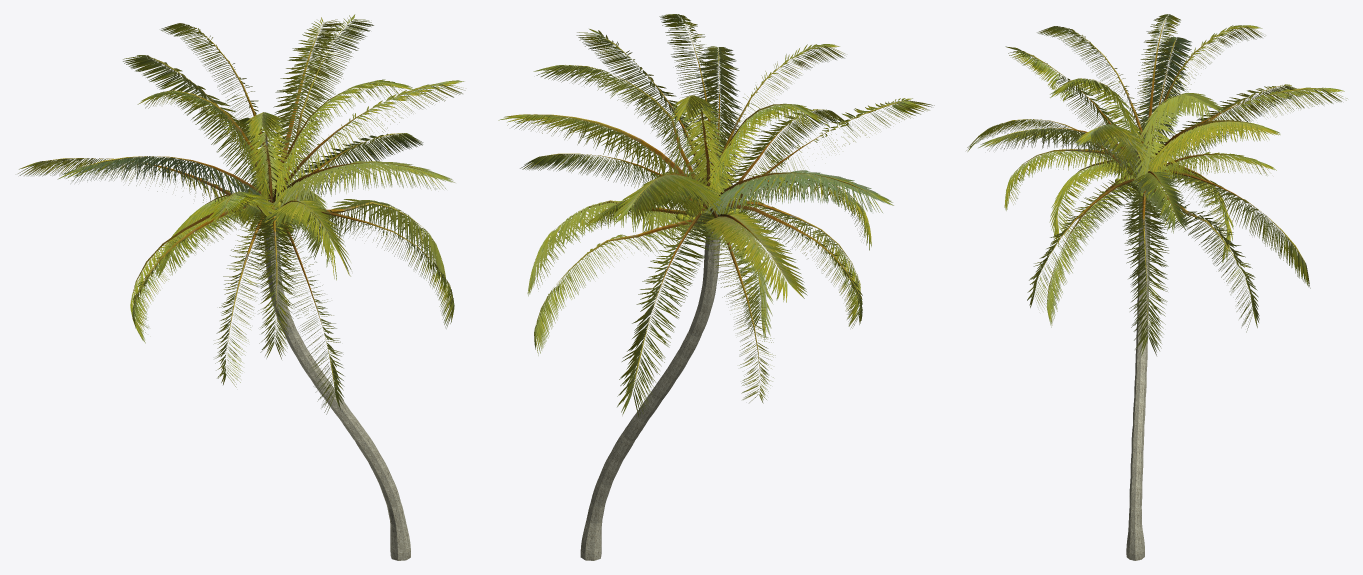
File: coconutTreeBended.obj
3 renders of one model, left to right at view 1: azimuth 30°, elevation 25°; view 2: azimuth 150°, elevation 25°; view 3: azimuth 270°, elevation 25°, orthographic. The views are drawn at different scales.
Parts seen in each view (by area): view 1: Leaves; view 2: Leaves; view 3: Leaves.
Boxes of the visible parts, left/top/right/bottom form: Leaves: left=18, top=14, right=465, bottom=560; Leaves: left=498, top=14, right=934, bottom=560; Leaves: left=966, top=14, right=1347, bottom=560.
Size of the model in its own units: 729 by 1000 by 751.
3 materials, 3 textured.
